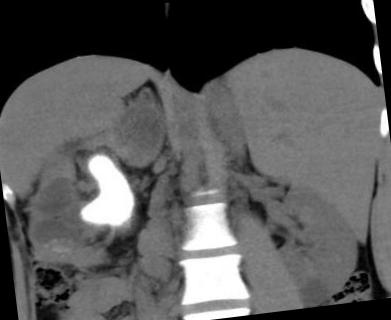Tas_Var: (64, 142, 144, 232)
